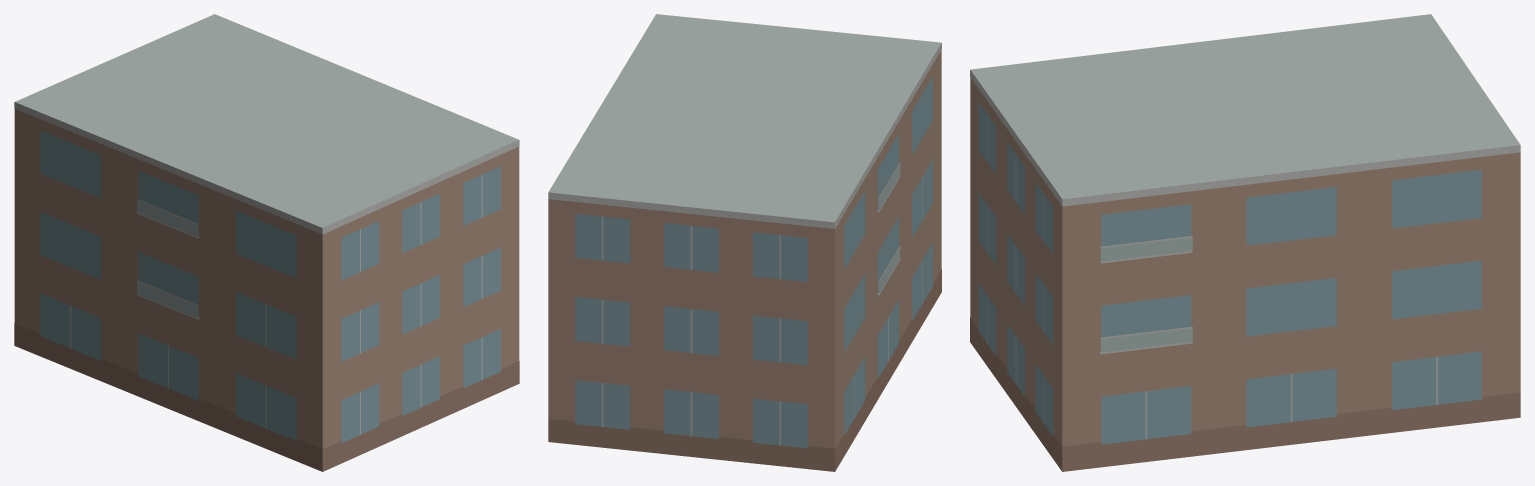
File: survey-upis-32698047.glb
3 renders of one model, left to right at view 1: azimuth 30°, elevation 25°; view 2: azimuth 150°, elevation 25°; view 3: azimuth 270°, elevation 25°, orthographic. The views are drawn at different scales.
Visible parts, largest first — view 1: survey-upis-32698047.tmp; view 2: survey-upis-32698047.tmp; view 3: survey-upis-32698047.tmp.
Boxes of the visible parts, bbox=[...] form: survey-upis-32698047.tmp: bbox=[14, 14, 519, 471]; survey-upis-32698047.tmp: bbox=[548, 14, 941, 471]; survey-upis-32698047.tmp: bbox=[970, 14, 1520, 471].
Bounding box in the file's own units: 13.35 × 9.15 × 16.76.
